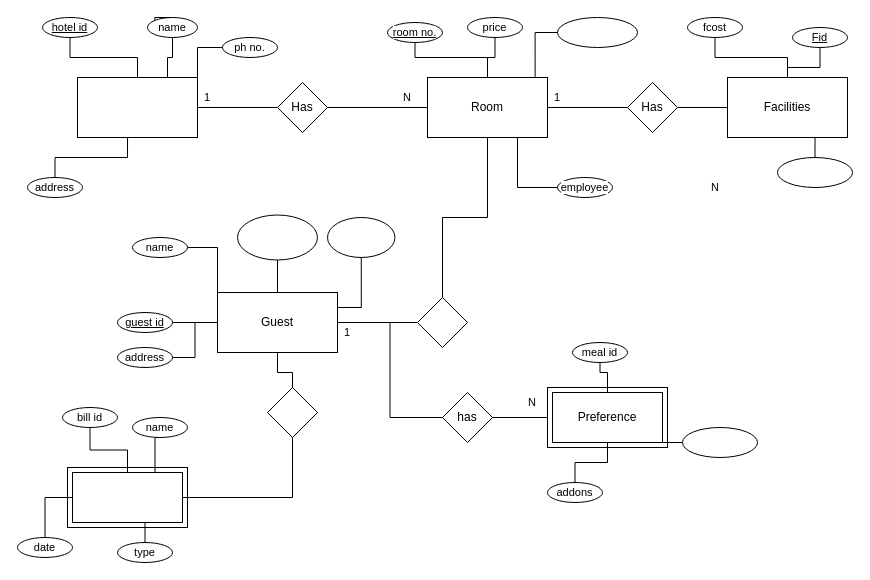
This 870x580 diagram has some shape labels left out. The centre of each missing label's shape, as x and y in pixels:
"arrival time" goes at point 360,237.
"availability" goes at point 814,172.
"Bill" goes at point 127,497.
"book" goes at point 442,322.
"departure time" goes at point 277,237.
"Hotel" goes at point 137,107.
"meal desc" goes at point 720,442.
"pays" goes at point 292,412.
"room type" goes at point 597,32.
